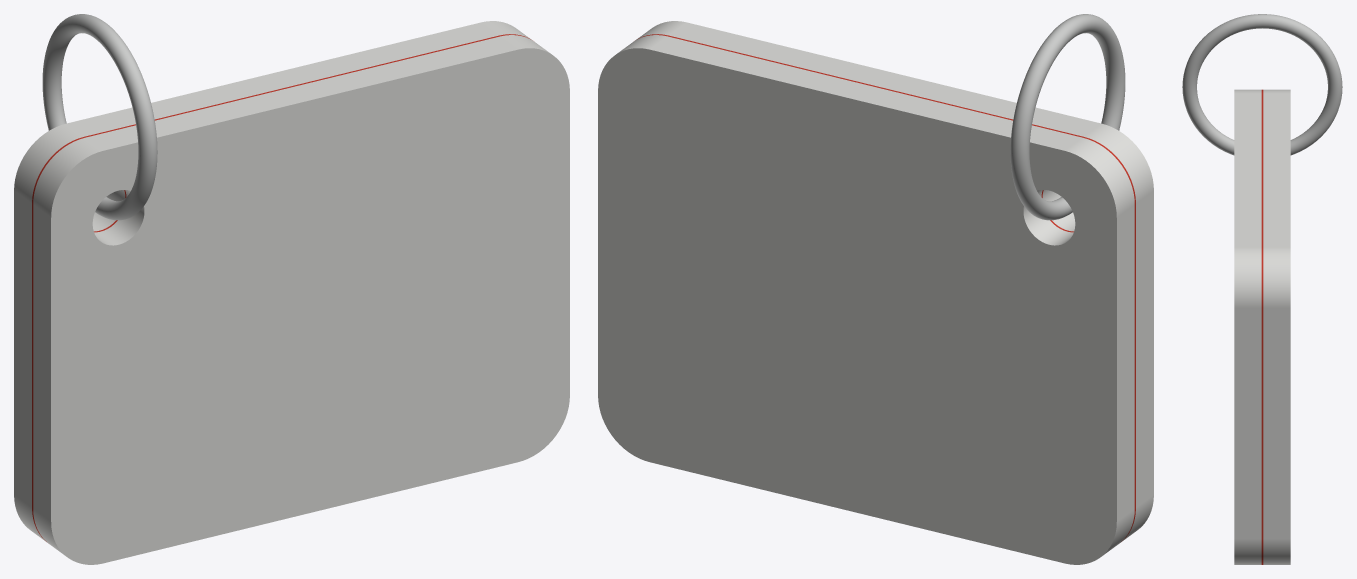
File: keychain.obj
3 renders of one model, left to right at view 1: azimuth 30°, elevation 25°; view 2: azimuth 150°, elevation 25°; view 3: azimuth 270°, elevation 25°, orthographic. The views are drawn at different scales.
Parts seen in each view (by area): view 1: Front Acrylic, Back Acrylic, Split Ring, Art Sheet; view 2: Back Acrylic, Front Acrylic, Split Ring, Art Sheet; view 3: Back Acrylic, Front Acrylic, Split Ring, Art Sheet.
Boxes of the visible parts, <box> form: Front Acrylic: <box>33,35,569,564</box>; Back Acrylic: <box>14,21,532,542</box>; Split Ring: <box>42,14,157,220</box>; Art Sheet: <box>32,34,530,541</box>; Back Acrylic: <box>598,35,1134,564</box>; Front Acrylic: <box>635,21,1153,542</box>; Split Ring: <box>1010,14,1125,220</box>; Art Sheet: <box>637,34,1135,541</box>; Back Acrylic: <box>1263,89,1290,564</box>; Front Acrylic: <box>1234,89,1261,564</box>; Split Ring: <box>1182,14,1342,155</box>; Art Sheet: <box>1261,89,1263,564</box>.
Bounding box in the file's own units: 5 × 4.83 × 1.76.
